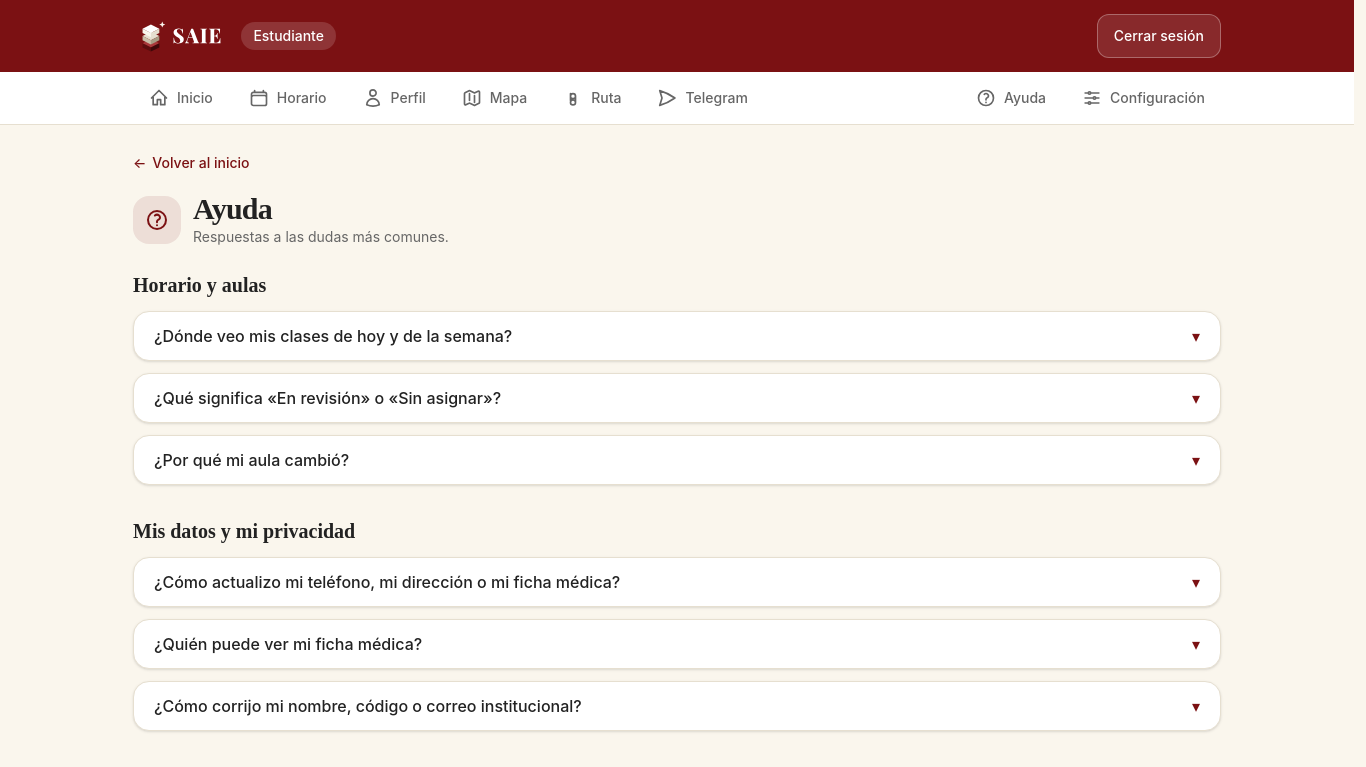
Test: AyudaAlumno (Issue 3.17) › despliega la respuesta al abrir una pregunta
Step 1. Click the text "¿Quién puede ver mi ficha médica?" → (288,644), box [154, 632, 422, 656]
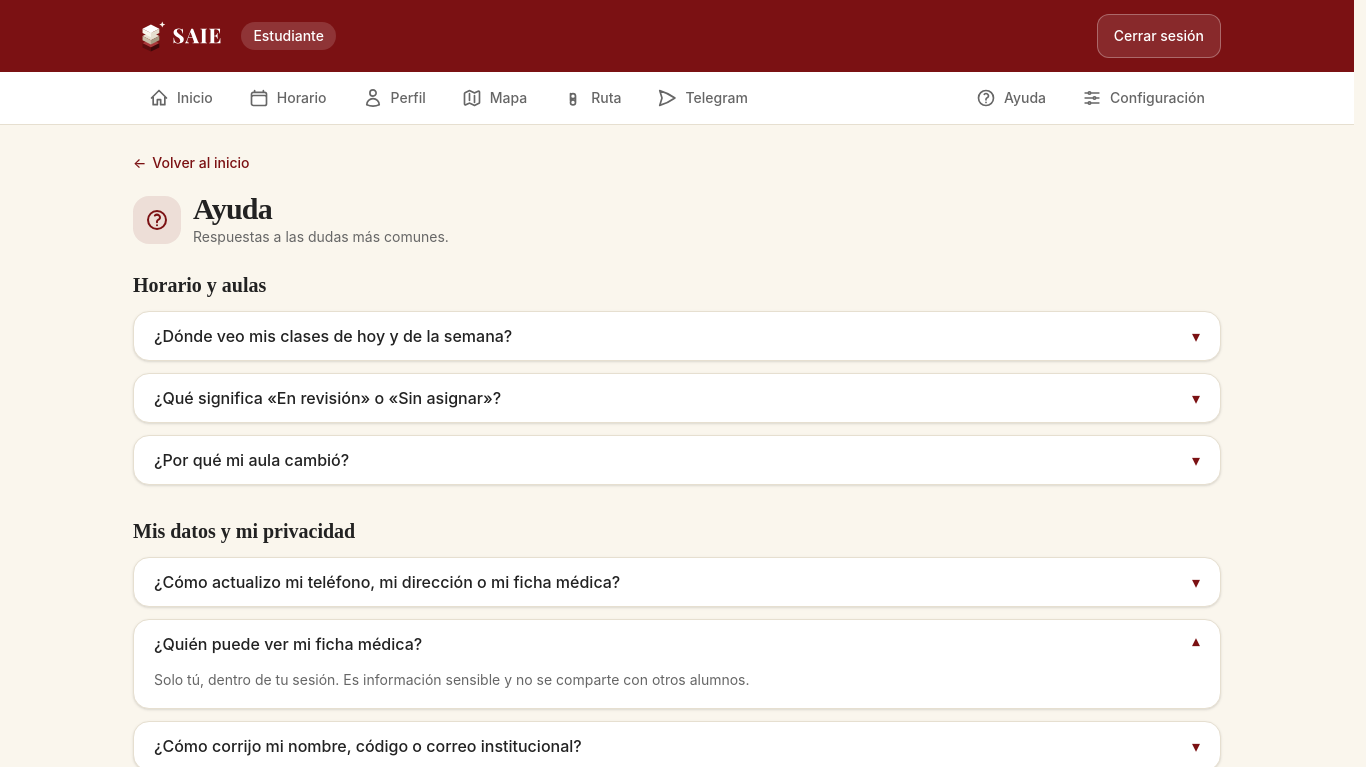
Result: the text "Solo tú, dentro de tu sesión" is shown at [154, 671, 750, 688]
